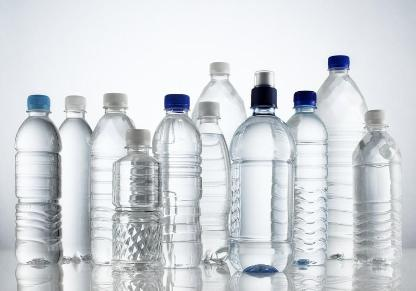Plastic Bottle: (230, 70, 297, 273), (316, 55, 368, 260), (152, 94, 202, 269), (14, 95, 62, 266), (353, 110, 403, 265), (112, 129, 164, 276), (91, 93, 134, 266), (288, 90, 329, 266), (59, 96, 92, 262), (198, 101, 231, 263), (192, 62, 247, 147)
